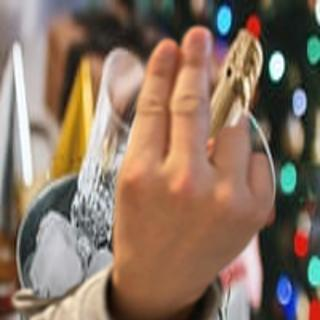DHAVE: (105, 18, 281, 310)
